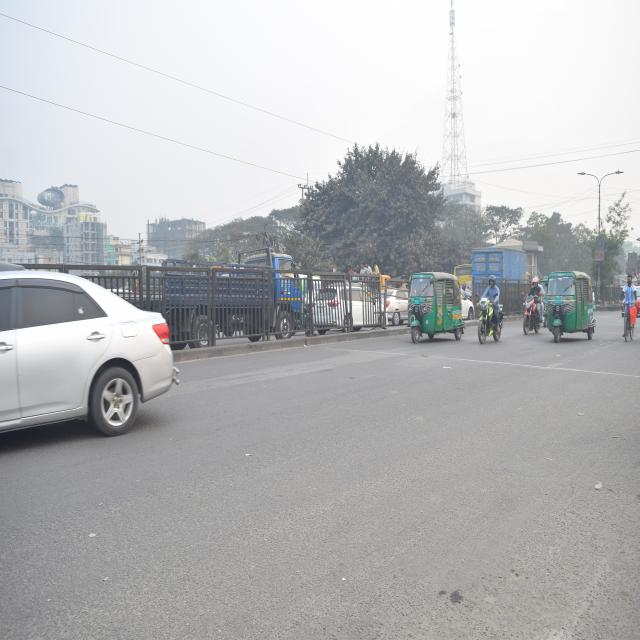car: (0, 261, 172, 442), (317, 277, 376, 336), (380, 284, 408, 332), (457, 285, 484, 319)
motorbike: (474, 289, 506, 347), (517, 289, 542, 336)
pickup-van: (165, 249, 303, 343), (471, 244, 530, 298)
